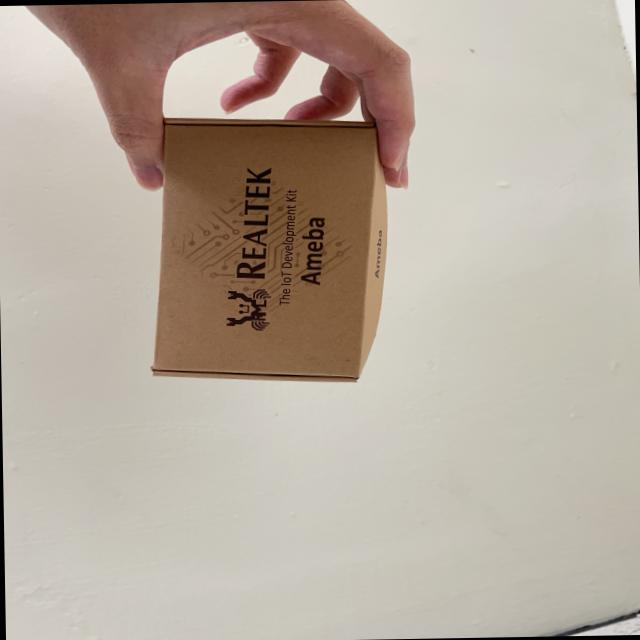box: (138, 92, 427, 401)
